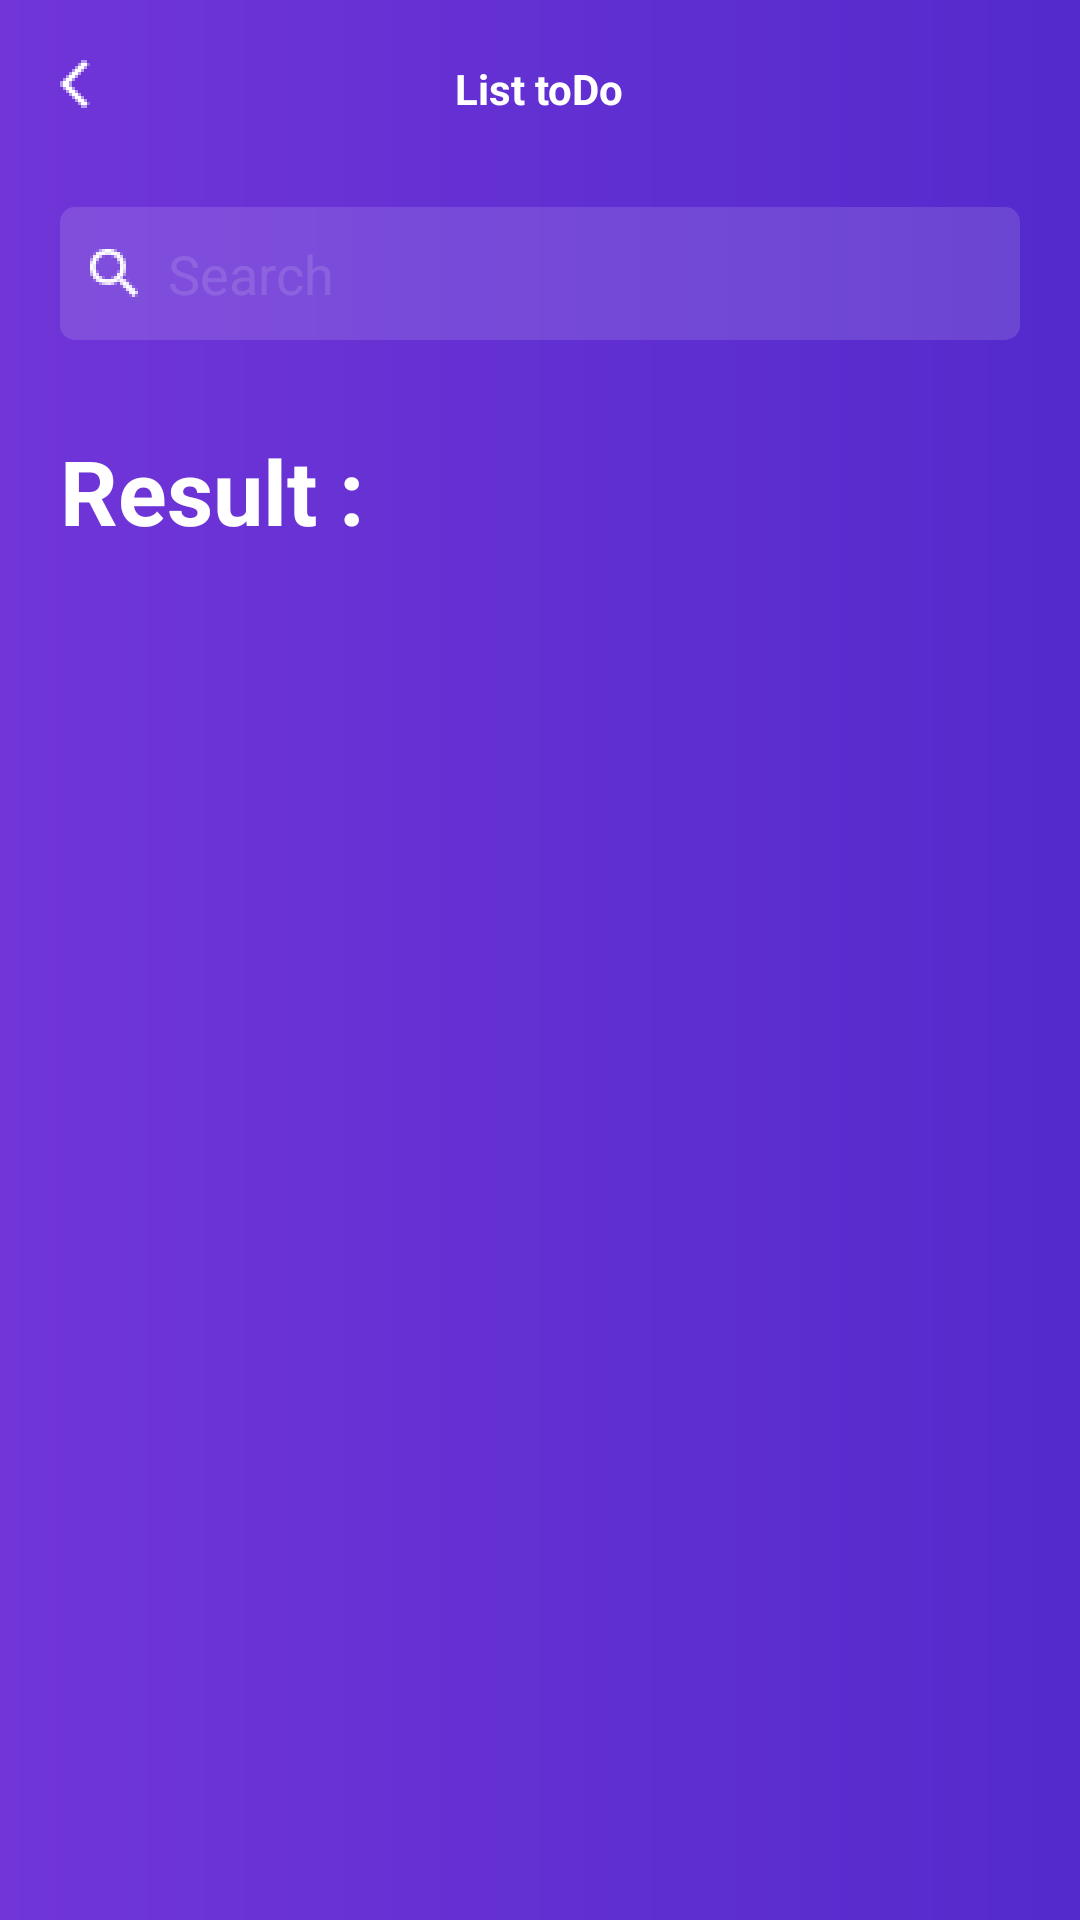

Where to tap for icons on this 1080×1920 app screen, as (x,y):
back: (75,84)
